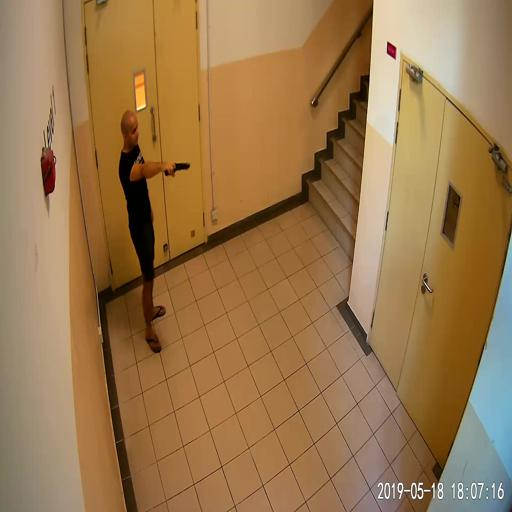pistol: (163, 158, 189, 177)
